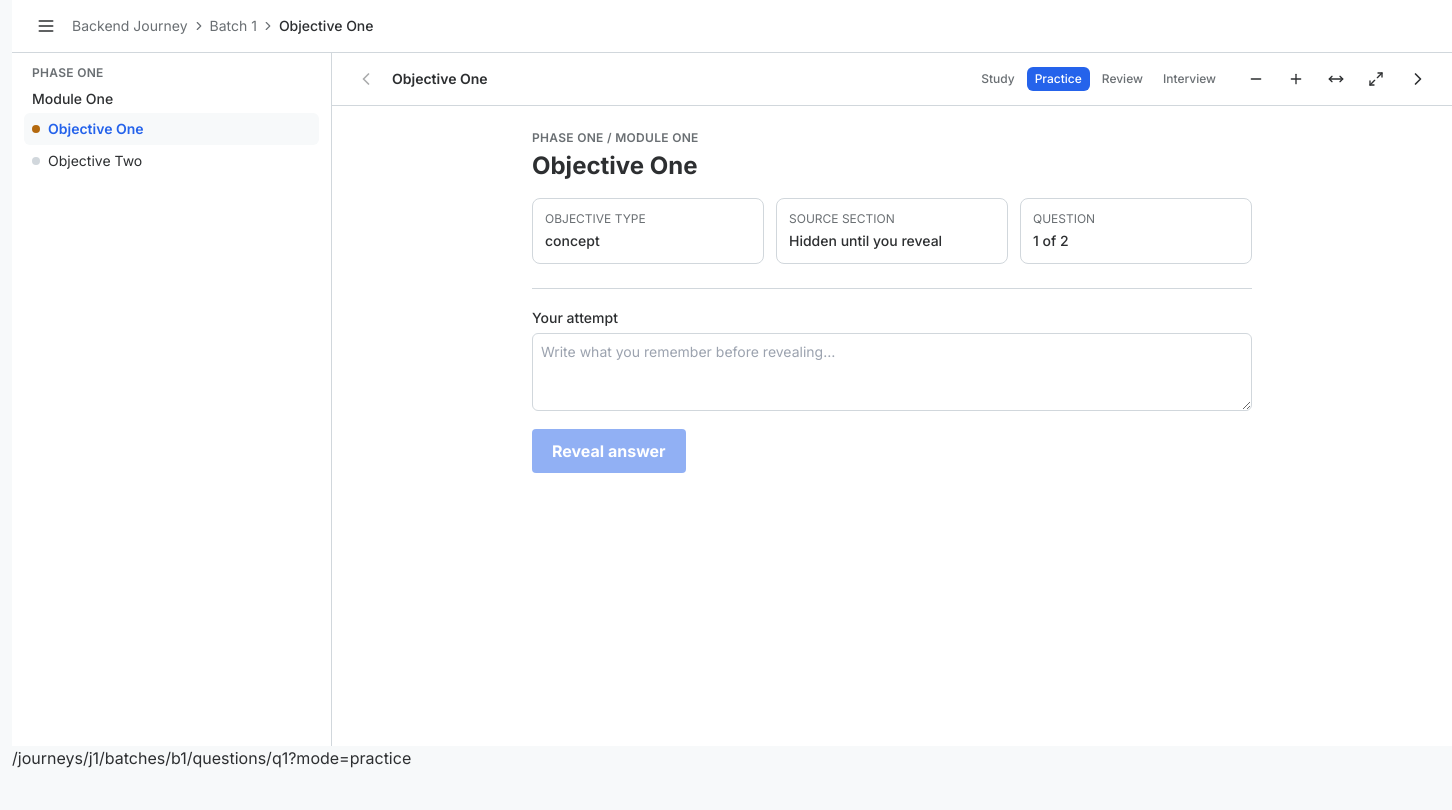
Test: StudyReaderPage › practice mode masks the source section until attempt + reveal, then grades
The width and height of the screenshot is (1452, 810).
Expected: the 2nd heading "Objective One" is shown, [532,151,698,180]
Expected: the text "Hidden until you reveal" is shown, [789,232,942,249]
In the text box labelled "Your attempt": (892,372) [532,333,1252,411], type "My attempt"
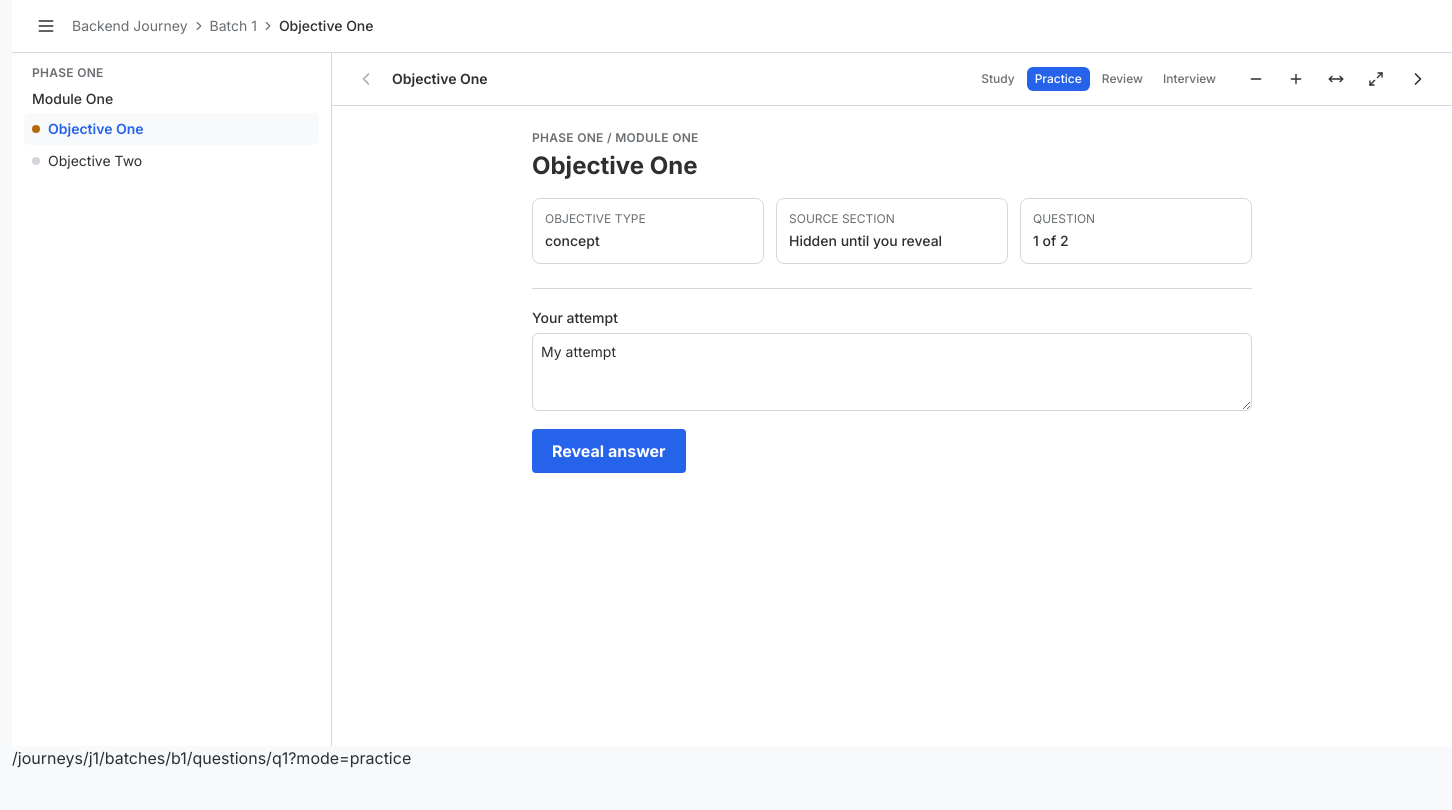
Now the button "Reveal answer" is enabled
Click the button "Reveal answer": (609,451) [532,429,686,473]
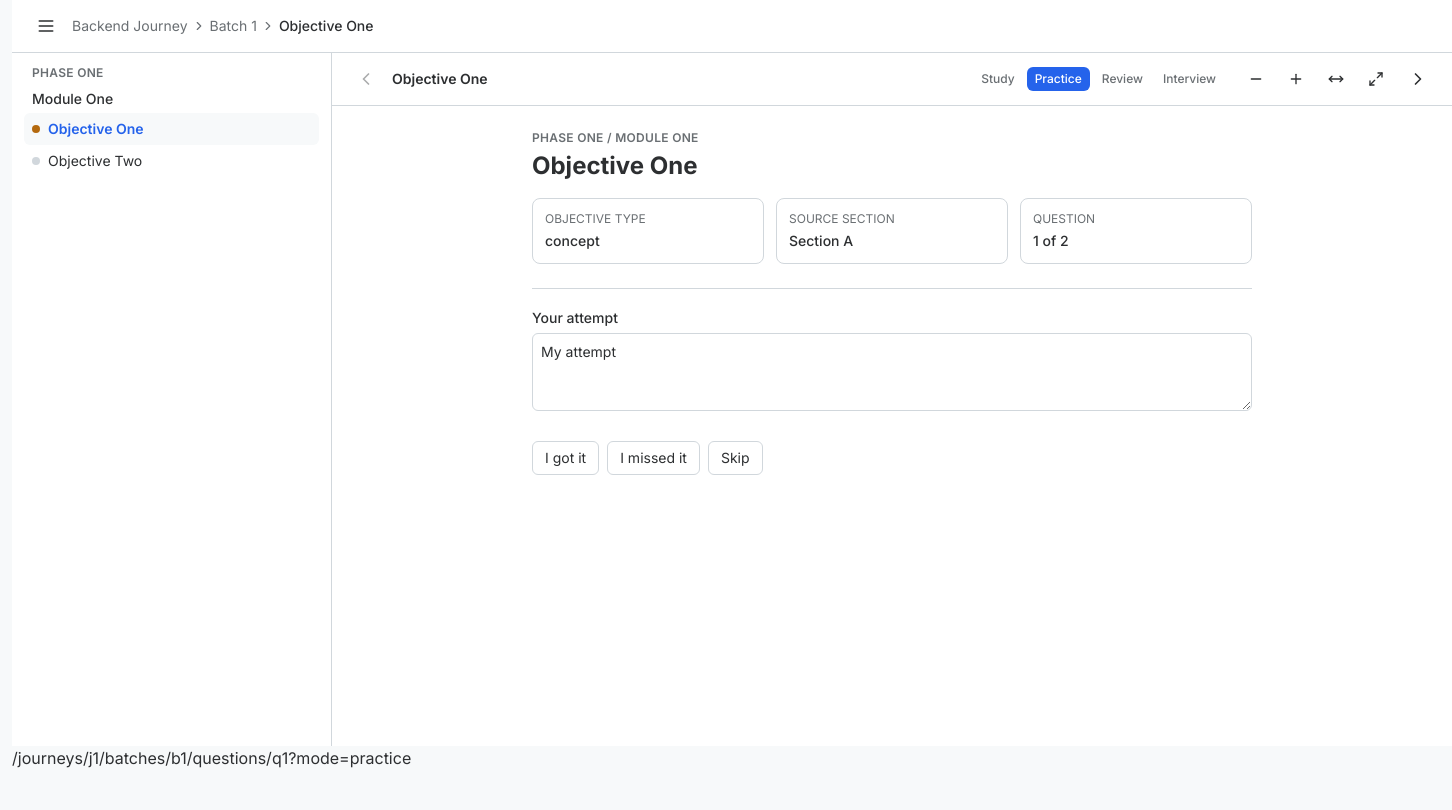
Now the text "Section A" is shown, box [789,232,853,249]
Click the button "I got it": (566,458) [532,441,599,475]
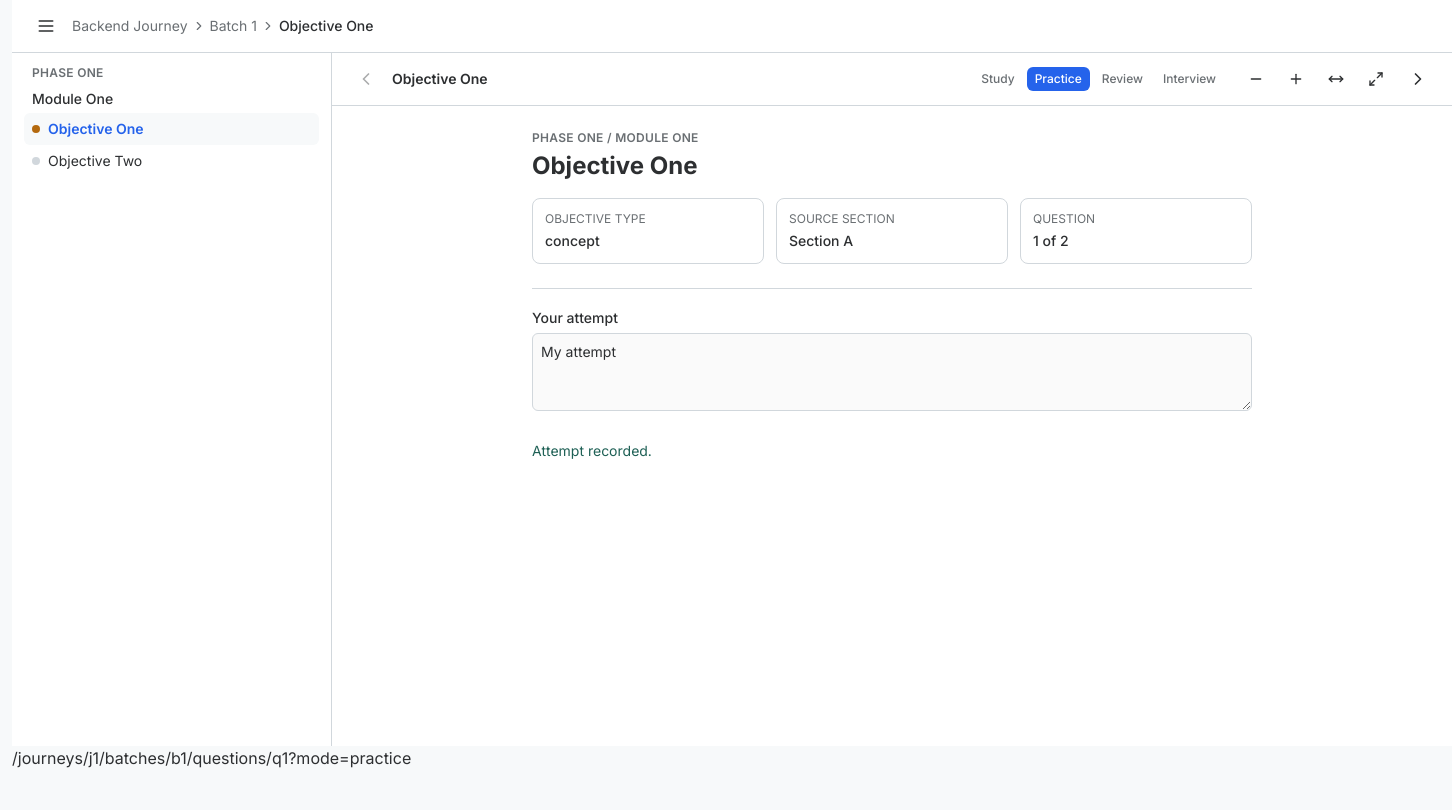
Now the text "Attempt recorded." is shown, box [532,442,652,459]
